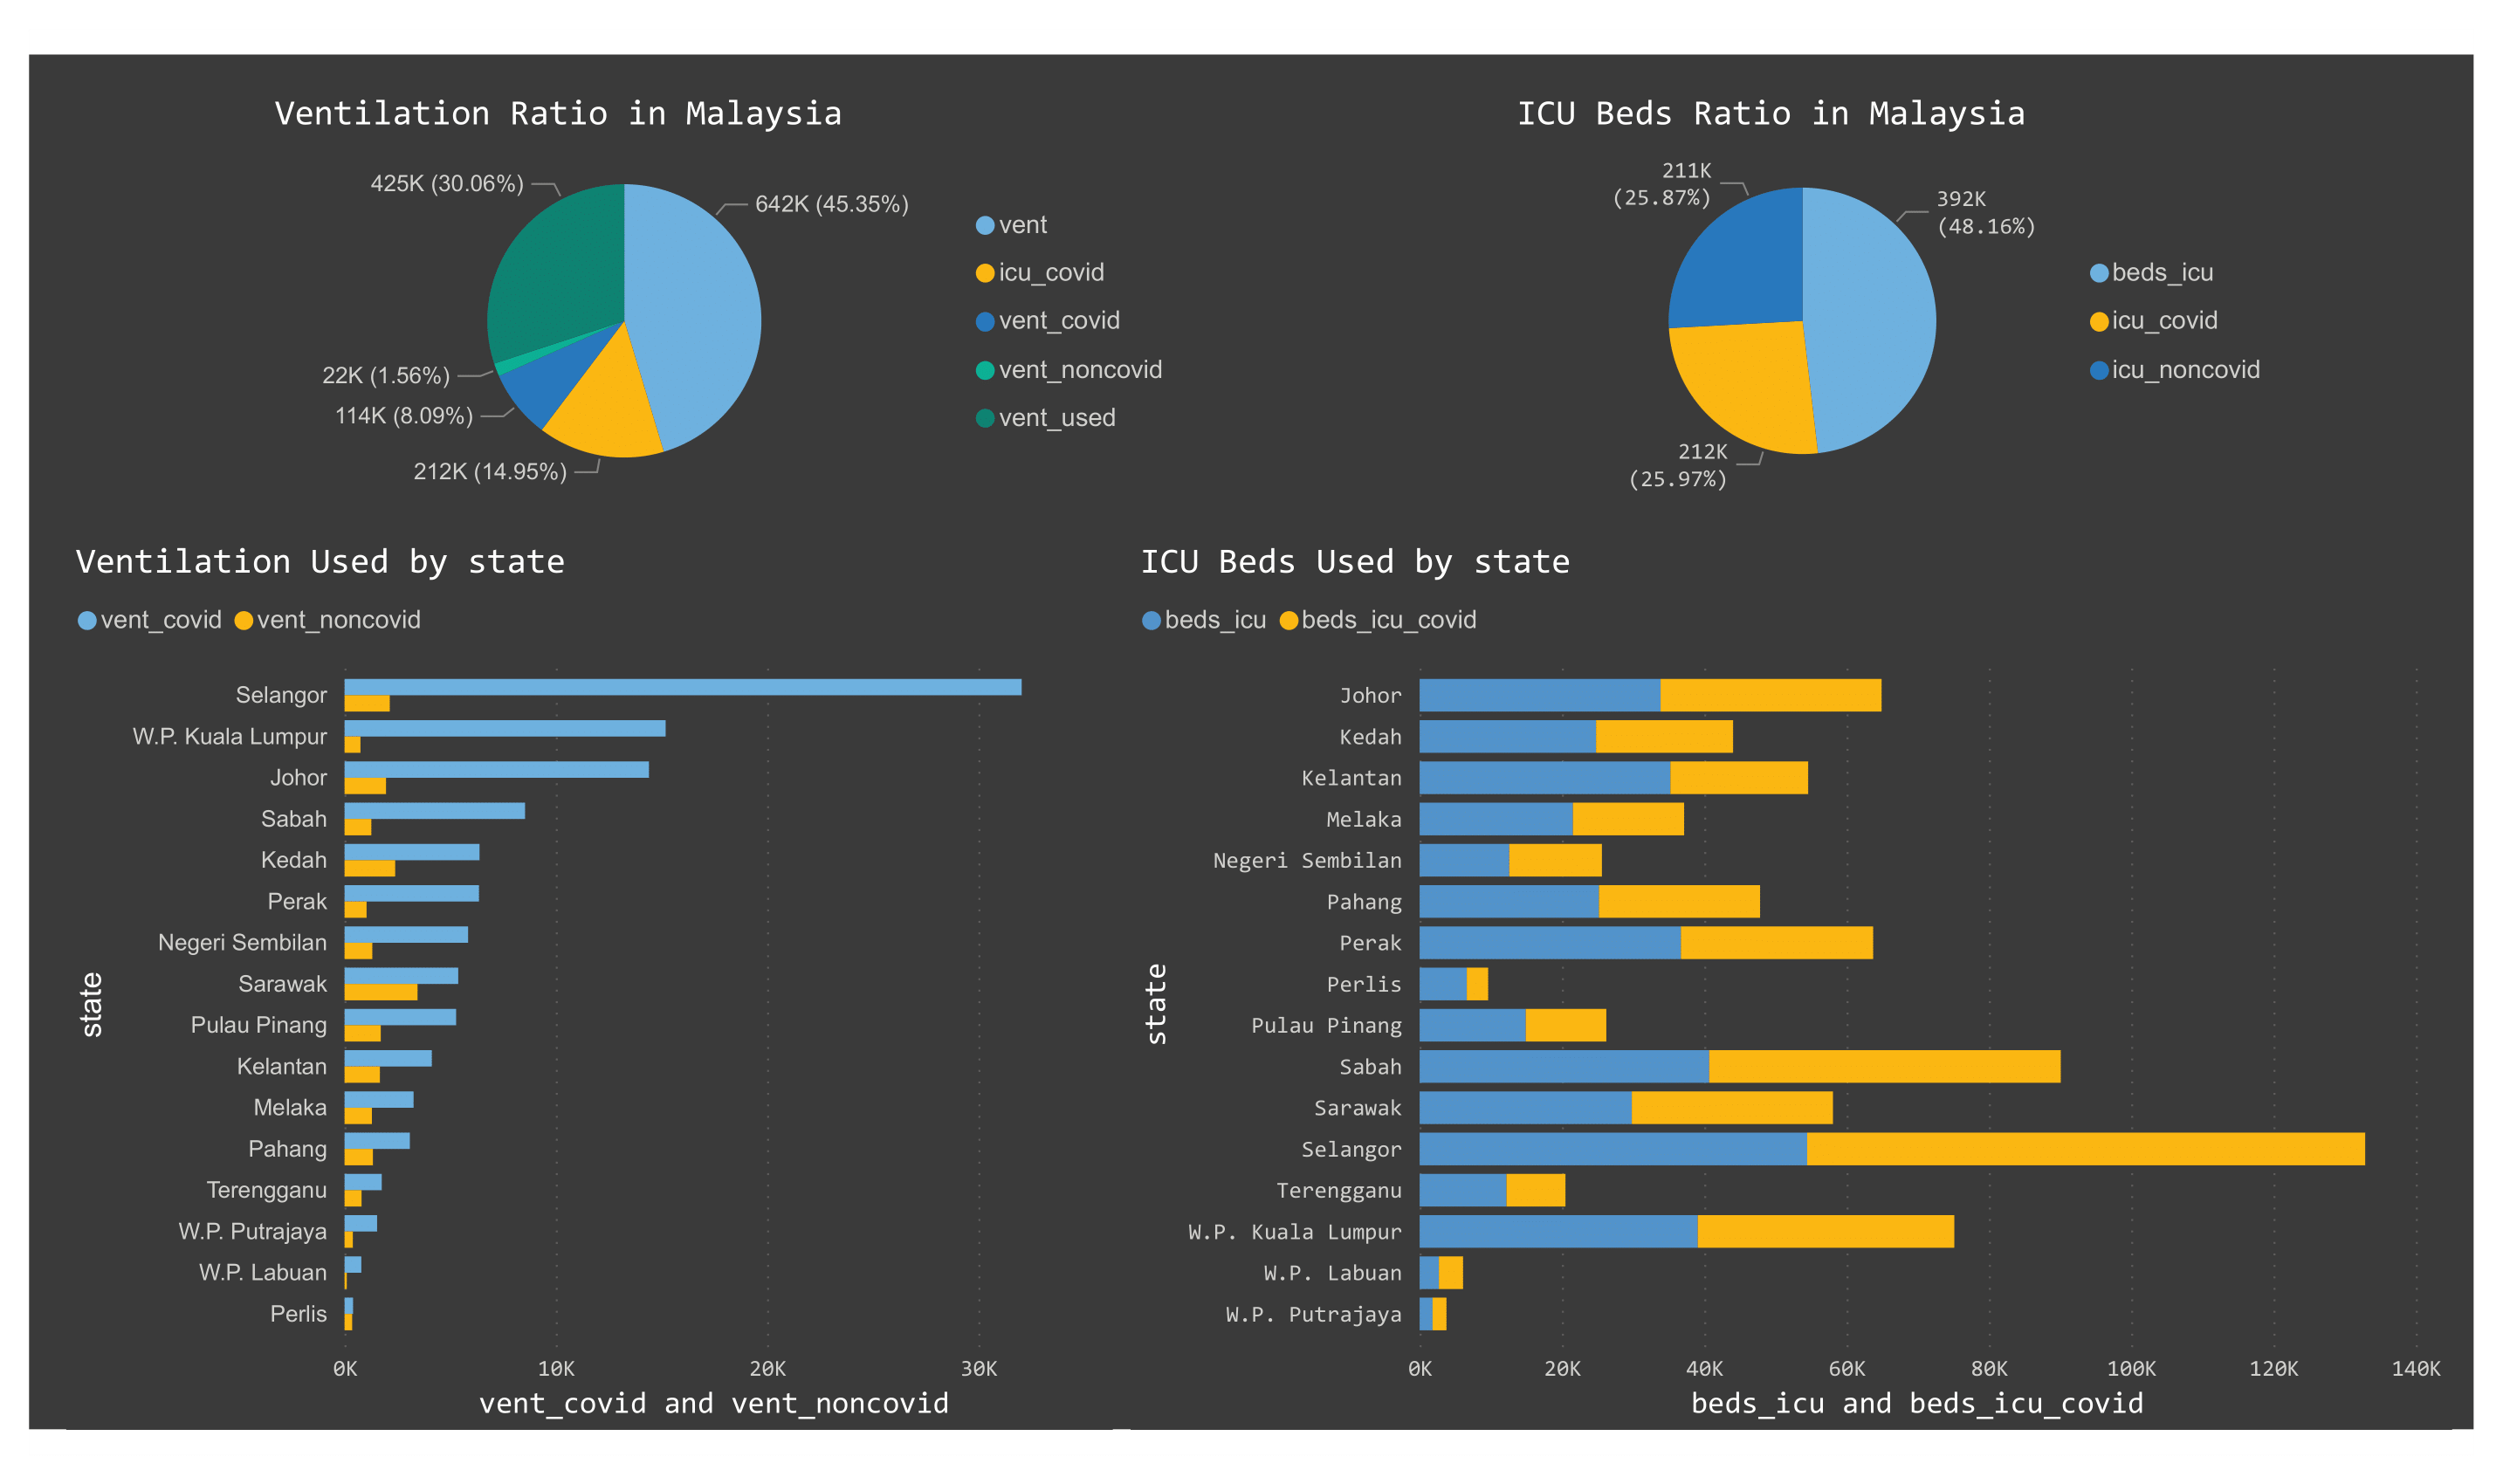

The page's visual inventory and layout, read from the dashboard file:
{"tool":"powerbi","page":{"name":"Page 3","canvas":[1280,720],"ordinal":2},"visuals":[{"type":"barChart","title":"ICU Beds Used by state","fields":{"Category":["icu.state","icu.date.Variation.Date Hierarchy.Year","icu.date.Variation.Date Hierarchy.Quarter","icu.date.Variation.Date Hierarchy.Month","icu.date.Variation.Date Hierarchy.Day"],"Y":["Sum(icu.beds_icu)","Sum(icu.beds_icu_covid)"]},"box":[576.8,254.3,692.1,465.6],"z":0},{"type":"pieChart","title":"ICU Beds Ratio in Malaysia","fields":{"Y":["Sum(icu.beds_icu)","Sum(icu.icu_covid)","Sum(icu.icu_noncovid)"]},"box":[774.1,19.5,408.6,218.2],"z":1000},{"type":"pieChart","title":"Ventilation Ratio in Malaysia","fields":{"Y":["Sum(icu.vent)","Sum(icu.icu_covid)","Sum(icu.vent_covid)","Sum(icu.vent_noncovid)","Sum(icu.vent_used)"]},"box":[123.7,19.5,485,218.2],"z":2000},{"type":"clusteredBarChart","title":"Ventilation Used by state","fields":{"Y":["Sum(icu.vent_covid)","Sum(icu.vent_noncovid)"],"Category":["icu.state"]},"box":[19.5,254.3,547.6,465.6],"z":3000}]}

Visuals, with their boxes on the page's 1280x720 design canvas (x1, y1, x2, y2). These are canvas units, not pixel positions in the 2503x1484 screenshot, which may show the page scaled, cropped or inside an application window:
"ICU Beds Used by state" barChart: pyautogui.locateOnScreen(577, 254, 1269, 720)
"ICU Beds Ratio in Malaysia" pieChart: pyautogui.locateOnScreen(774, 20, 1183, 238)
"Ventilation Ratio in Malaysia" pieChart: pyautogui.locateOnScreen(124, 20, 609, 238)
"Ventilation Used by state" clusteredBarChart: pyautogui.locateOnScreen(20, 254, 567, 720)
